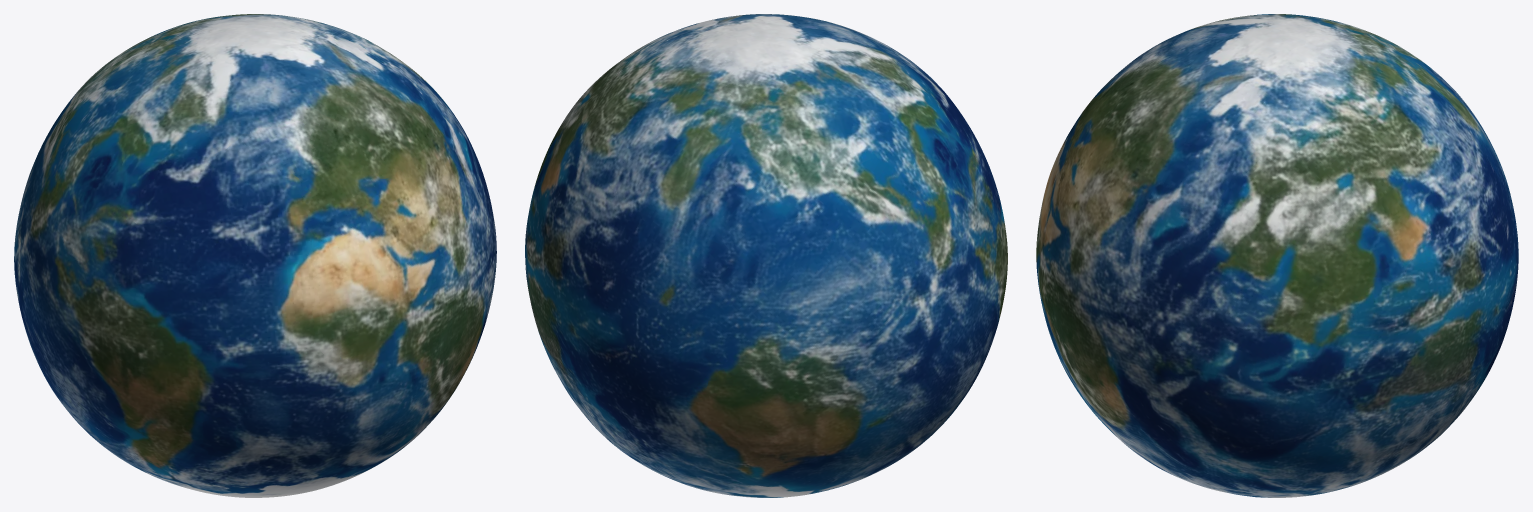
File: earth.glb
3 views of the same model, side by side, from view 1: azimuth 30°, elevation 25°; view 2: azimuth 150°, elevation 25°; view 3: azimuth 270°, elevation 25° (orthographic).
Visible parts, largest first — view 1: world; view 2: world; view 3: world.
Boxes of the visible parts, bbox=[...] form: world: bbox=[14, 14, 496, 497]; world: bbox=[525, 14, 1007, 497]; world: bbox=[1036, 14, 1518, 497].
Bounding box in the file's own units: 1.27e+07 × 1.28e+07 × 1.27e+07.
1 material, 1 textured.
